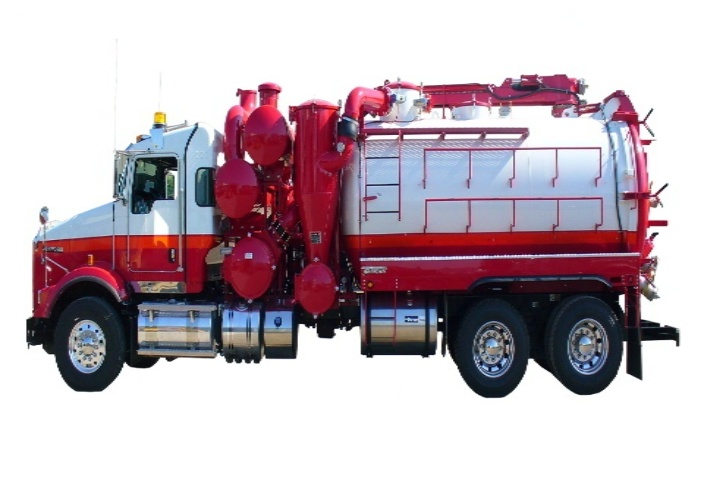industrial: (21, 66, 696, 412)
